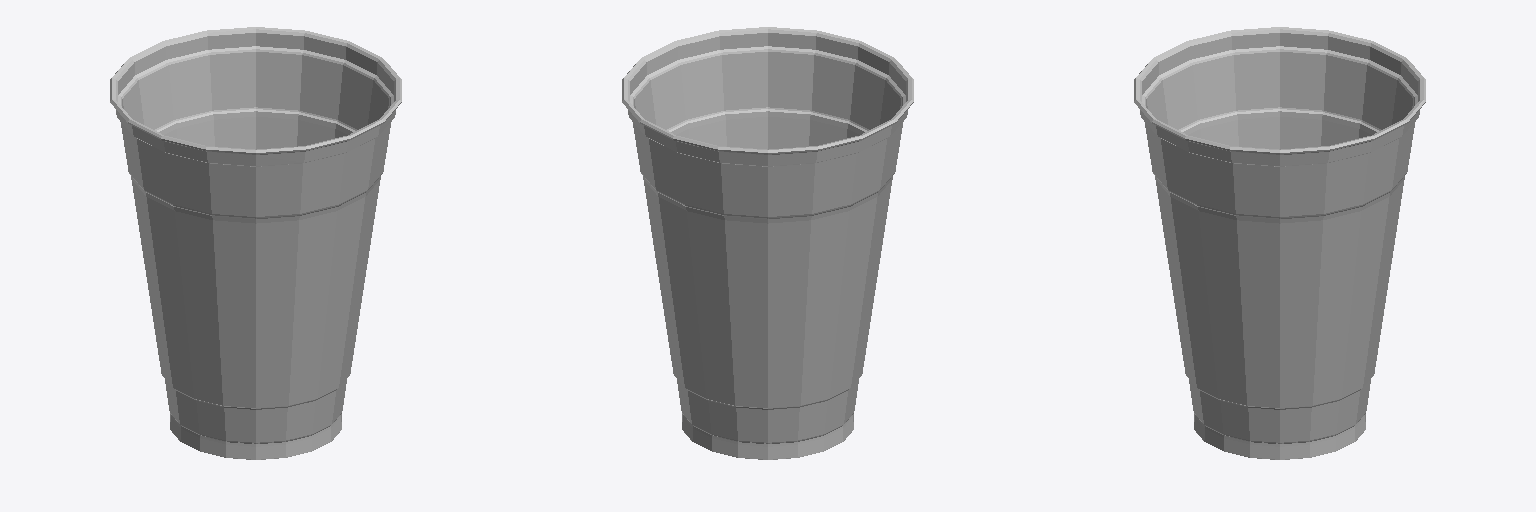
File: plasticcup_02.obj
3 renders of one model, left to right at view 1: azimuth 30°, elevation 25°; view 2: azimuth 150°, elevation 25°; view 3: azimuth 270°, elevation 25°, orthographic.
Parts seen in each view (by area): view 1: straw_Cylinder.003; view 2: straw_Cylinder.003; view 3: straw_Cylinder.003.
Part boxes in pixels (x1,y1,x2,y2): straw_Cylinder.003: (110,27,401,459); straw_Cylinder.003: (622,27,913,459); straw_Cylinder.003: (1134,27,1425,459).
Size of the model in its own units: 0.0962 by 0.12 by 0.0948.